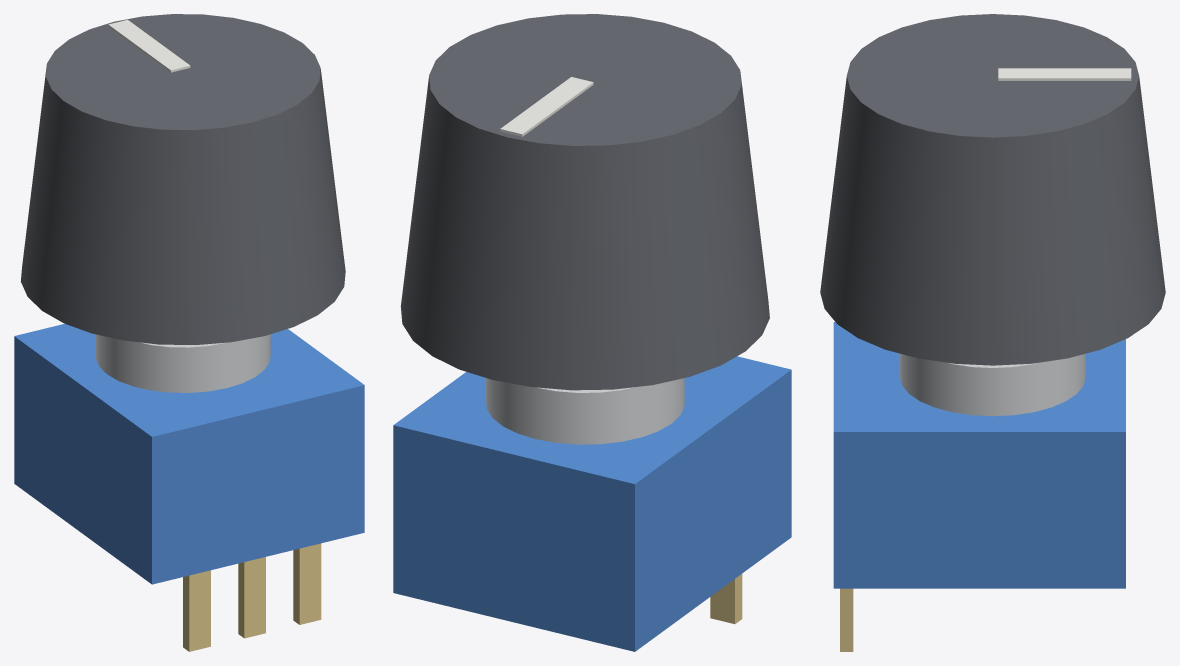
The model's file is potentiometer.glb.
3 renders of one model, left to right at view 1: azimuth 30°, elevation 25°; view 2: azimuth 150°, elevation 25°; view 3: azimuth 270°, elevation 25°, orthographic. The views are drawn at different scales.
Parts seen in each view (by area): view 1: knob, body, shaft, pins; view 2: knob, body, shaft, pins; view 3: knob, body, shaft, pins.
Boxes of the visible parts, box(x1,y1,x2,y2) form: knob: box(20, 14, 345, 344); body: box(14, 324, 364, 584); shaft: box(95, 334, 270, 392); pins: box(183, 543, 321, 651); knob: box(400, 14, 769, 390); body: box(393, 356, 791, 651); shaft: box(486, 378, 684, 444); pins: box(710, 574, 742, 623); knob: box(820, 14, 1165, 365); body: box(833, 322, 1125, 588); shaft: box(900, 353, 1085, 416); pins: box(840, 588, 853, 651).
Bounding box in the file's own units: 0.013 × 0.0226 × 0.013.
